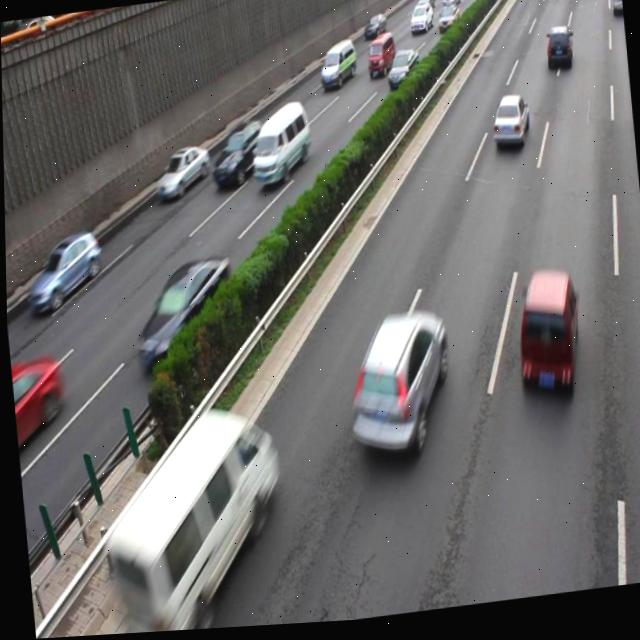car: (339, 311, 453, 467), (128, 255, 236, 373), (508, 272, 582, 403), (24, 228, 103, 311), (206, 120, 267, 191), (151, 145, 211, 203), (488, 98, 529, 153), (541, 30, 573, 79), (384, 51, 419, 95)
truck: (86, 405, 285, 636), (245, 102, 311, 188), (317, 41, 357, 94), (363, 35, 397, 84)
